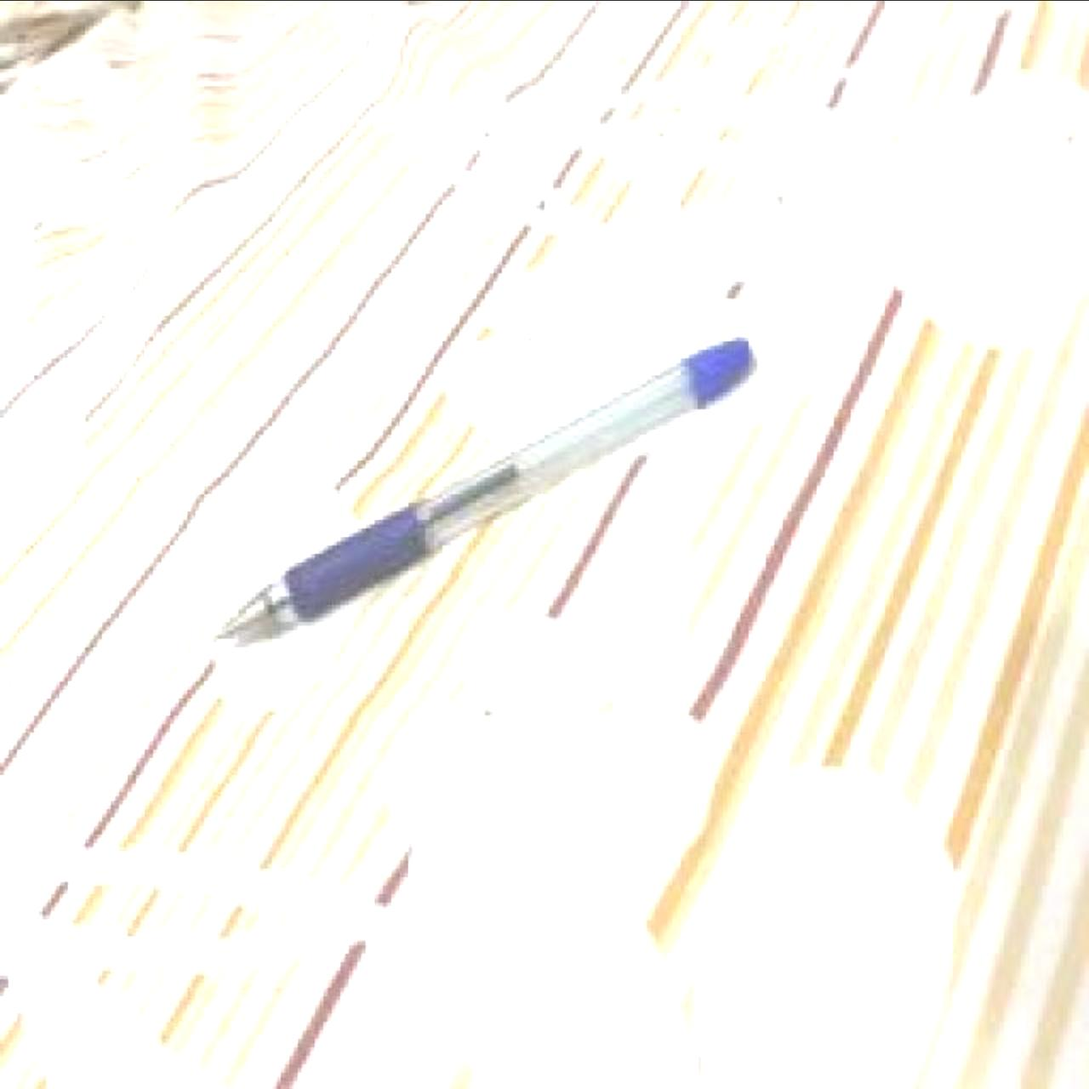pen: (204, 335, 757, 647)
